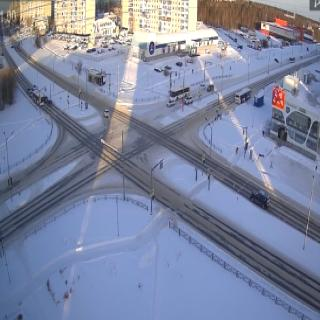large-vehicle: (168, 86, 190, 99), (234, 89, 252, 103), (31, 90, 44, 108)
small-vehicle: (248, 184, 269, 209), (104, 108, 114, 123), (207, 84, 216, 98), (184, 96, 194, 106), (166, 99, 175, 108), (154, 64, 162, 74), (199, 82, 206, 92), (47, 97, 53, 108), (288, 55, 296, 63), (176, 59, 183, 67), (165, 63, 171, 72), (27, 86, 32, 96), (237, 43, 243, 50)
